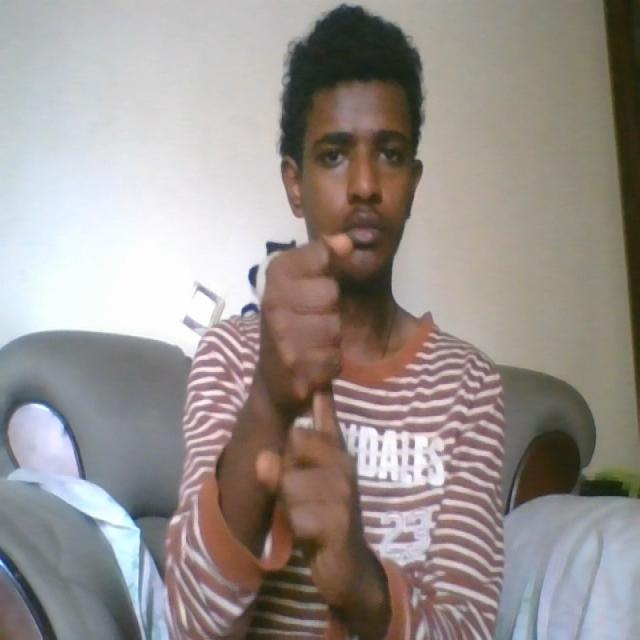meyaz: (253, 232, 360, 619)
